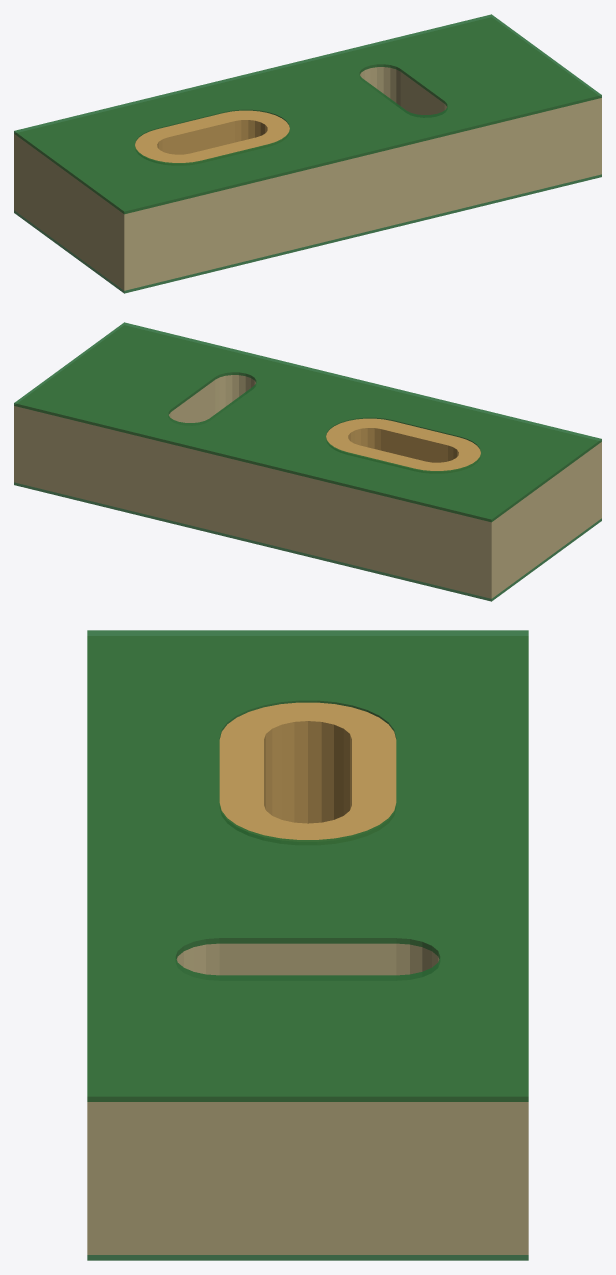
The model's file is slots.glb.
The picture shows the model from 3 angles, top to bottom: view 1: azimuth 30°, elevation 25°; view 2: azimuth 150°, elevation 25°; view 3: azimuth 270°, elevation 25°; orthographic projection. The views are drawn at different scales.
Visible parts, largest first — view 1: layer/@core, layer/@soldermask-top, layer/TOP, layer/DRILL, layer/@soldermask-bottom; view 2: layer/@core, layer/@soldermask-top, layer/TOP, layer/DRILL, layer/@soldermask-bottom; view 3: layer/@soldermask-top, layer/@core, layer/TOP, layer/DRILL, layer/@soldermask-bottom.
Part boxes in pixels (x1=…): layer/@core: x1=14, y1=18, x2=601, y2=290; layer/@soldermask-top: x1=14, y1=14, x2=601, y2=214; layer/TOP: x1=135, y1=110, x2=289, y2=164; layer/DRILL: x1=155, y1=119, x2=268, y2=155; layer/@soldermask-bottom: x1=14, y1=174, x2=601, y2=293; layer/@core: x1=14, y1=326, x2=601, y2=598; layer/@soldermask-top: x1=14, y1=322, x2=601, y2=522; layer/TOP: x1=326, y1=418, x2=480, y2=472; layer/DRILL: x1=347, y1=427, x2=460, y2=463; layer/@soldermask-bottom: x1=14, y1=482, x2=601, y2=601; layer/@soldermask-top: x1=87, y1=630, x2=528, y2=1101; layer/@core: x1=87, y1=636, x2=528, y2=1254; layer/TOP: x1=219, y1=702, x2=396, y2=843; layer/DRILL: x1=261, y1=720, x2=354, y2=824; layer/@soldermask-bottom: x1=87, y1=1255, x2=528, y2=1260.
Size of the model in its own units: 0.01 by 0.00164 by 0.004.
